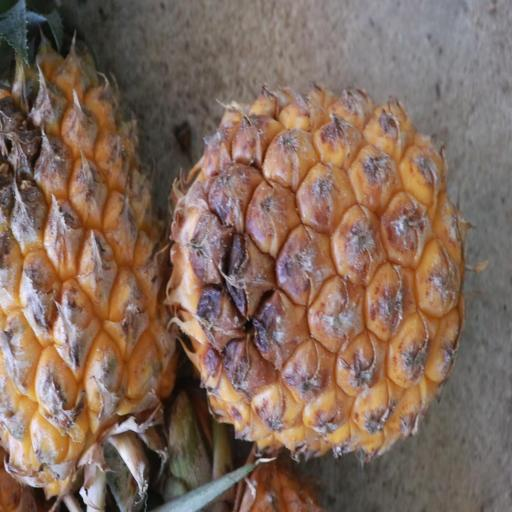Pineapple - v8 v1: (168, 100, 463, 474), (0, 0, 183, 508)
